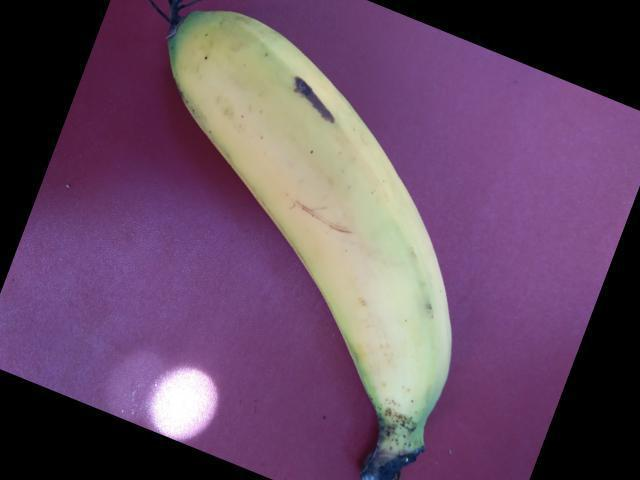ripe: (168, 16, 460, 464)
